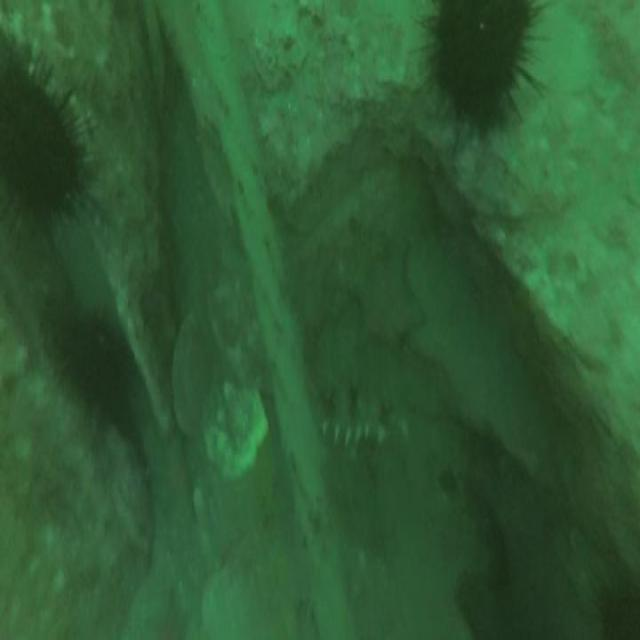echinus: (431, 0, 536, 130), (1, 51, 78, 228), (60, 321, 135, 422)
holothurian: (313, 412, 411, 453)
